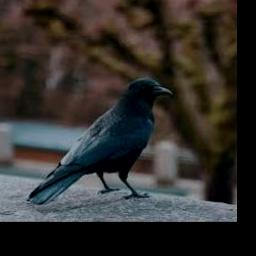Crow: (24, 77, 172, 205)
